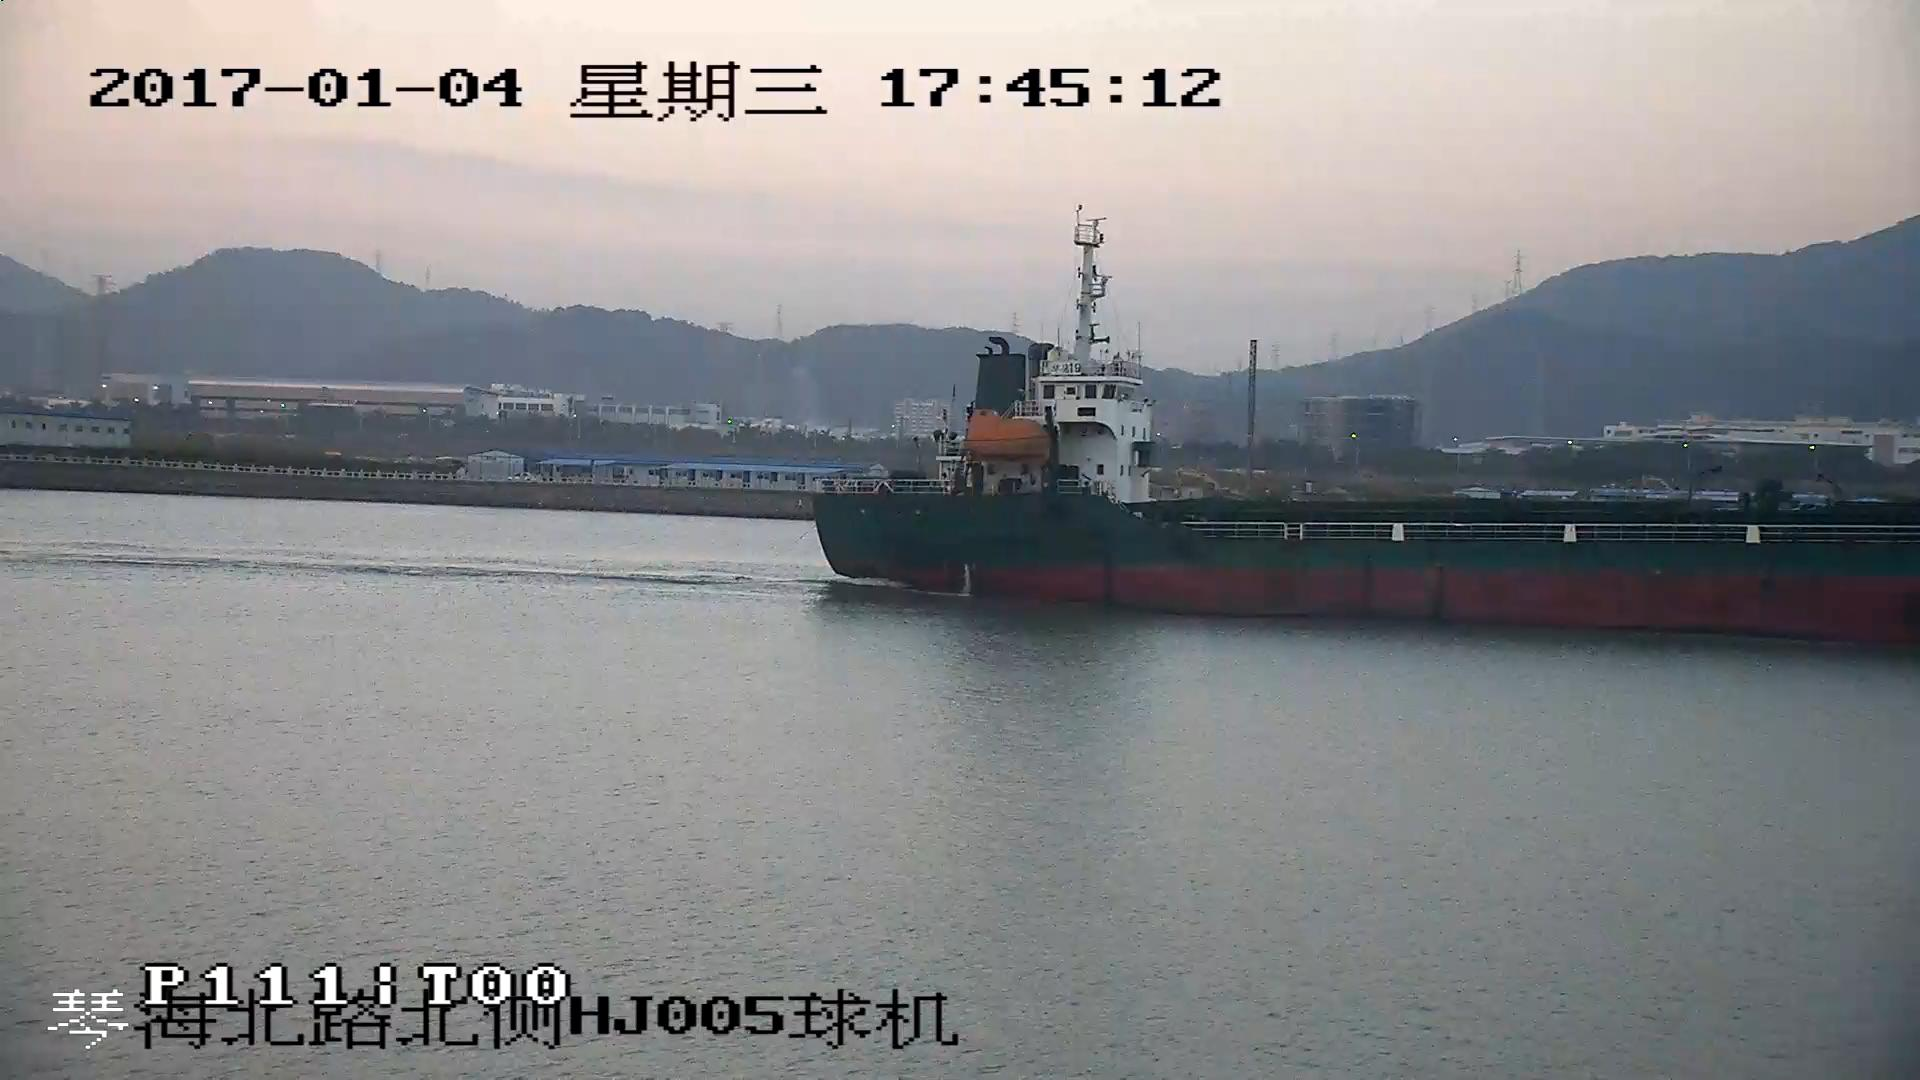general cargo ship: (806, 206, 1920, 636)
